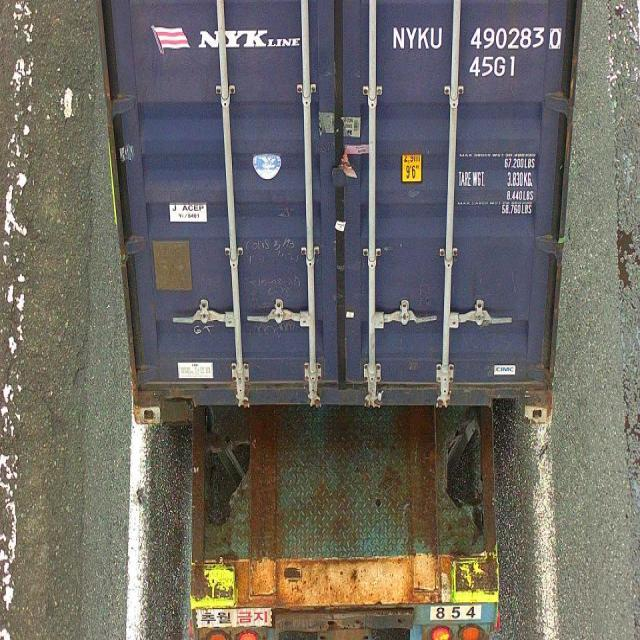ISO: (468, 52, 517, 76)
container_number: (397, 22, 557, 52)
